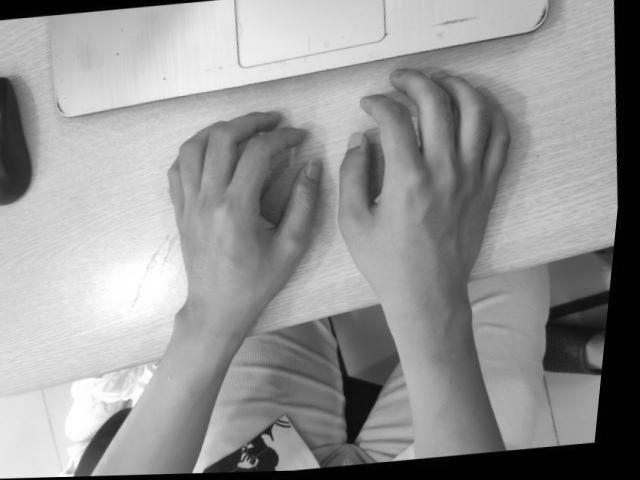not-gloved: (338, 65, 510, 291), (163, 114, 324, 300)
